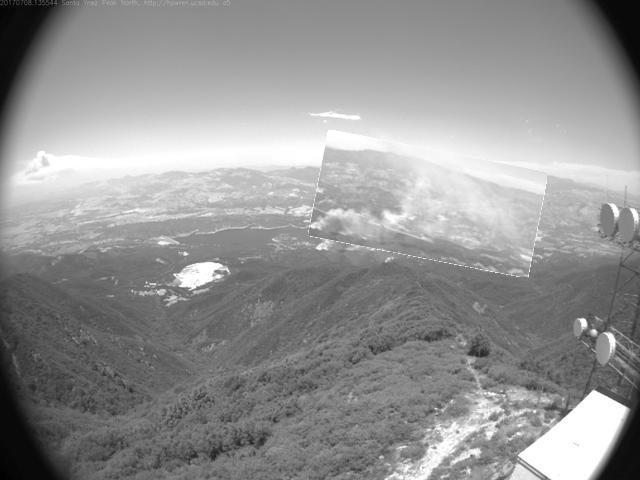smoke: (313, 141, 545, 269)
